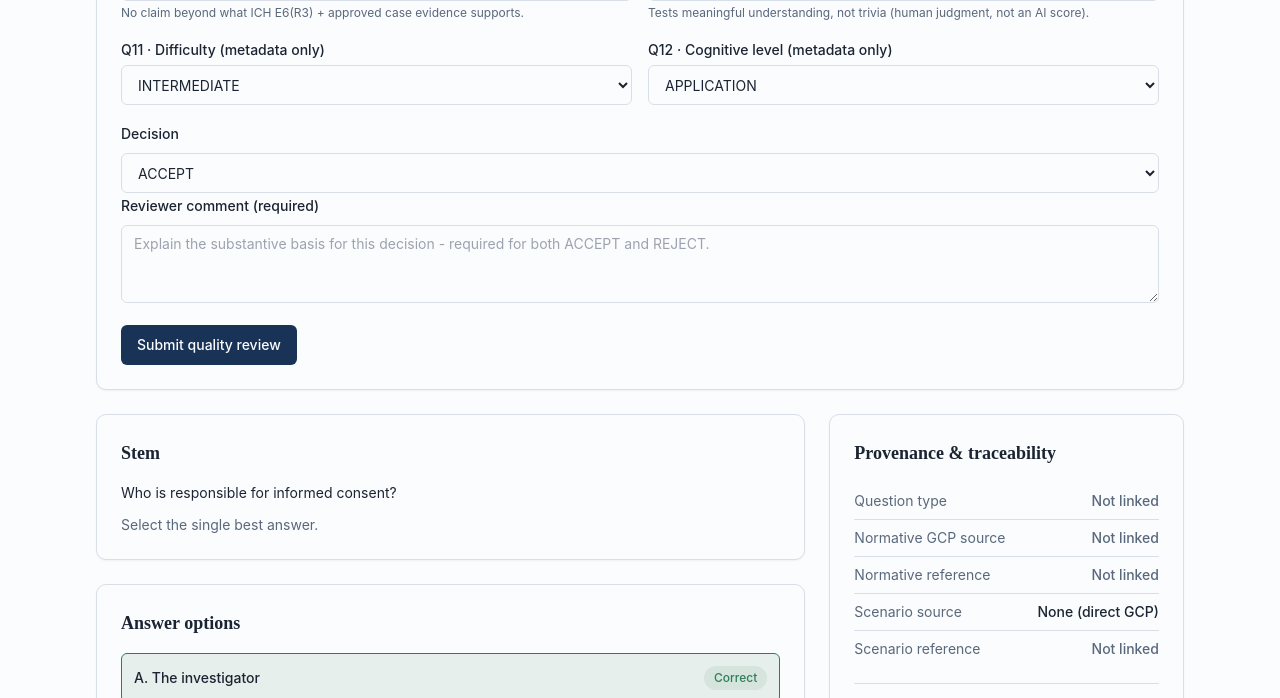
Test: AI question candidate detail page › requires a substantive reviewer comment before submitting
The width and height of the screenshot is (1280, 698).
(page scrolled)
Click the button "Submit quality review": (209, 345) [121,325,297,365]
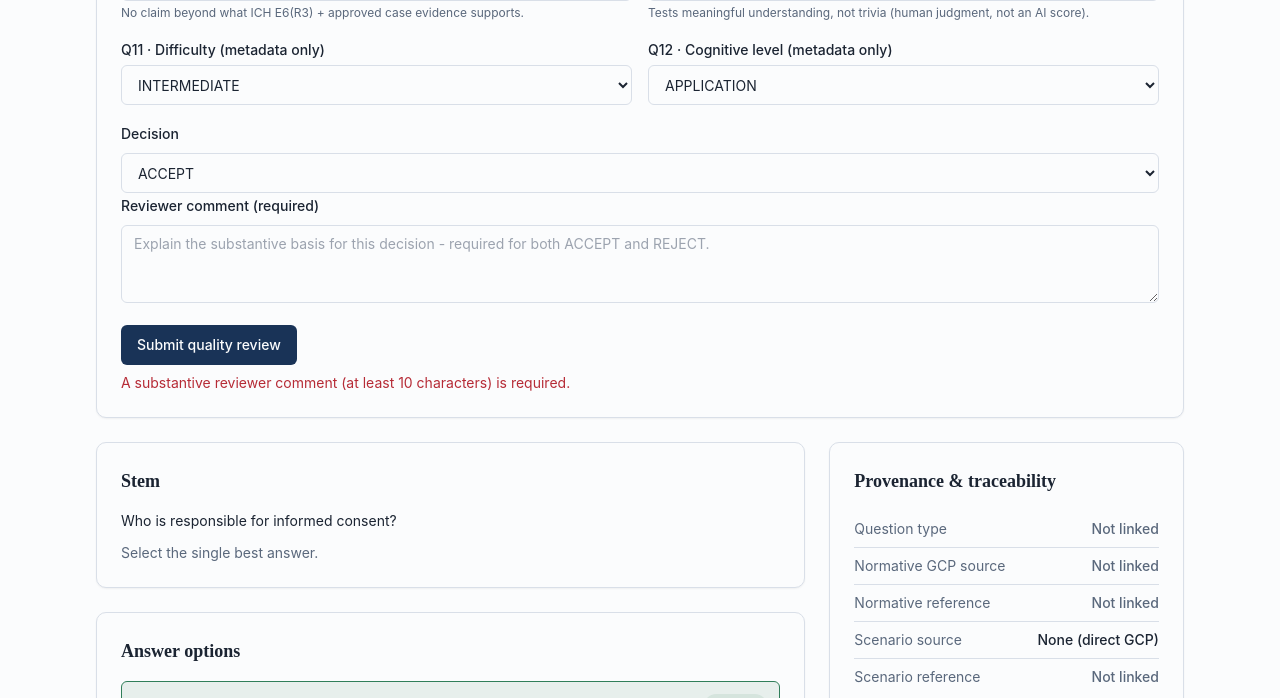
expect the text "at least 10 characters" is shown: met, box [121,374,570,391]
